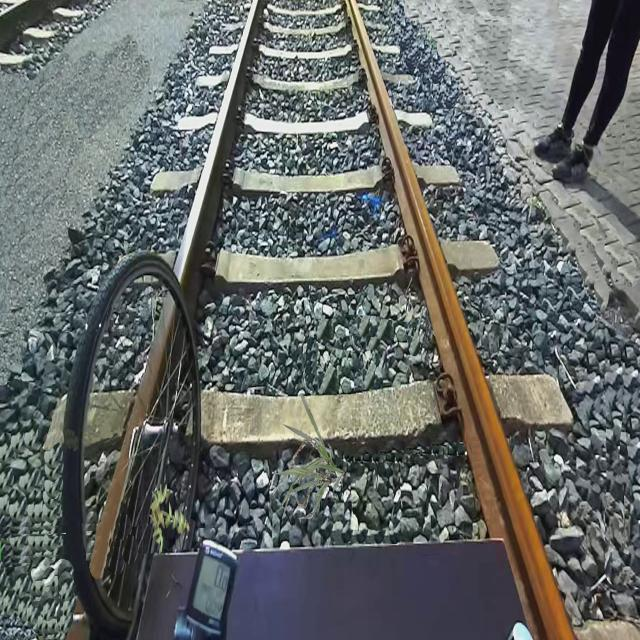Plant: (272, 395, 345, 520), (149, 483, 190, 554)
